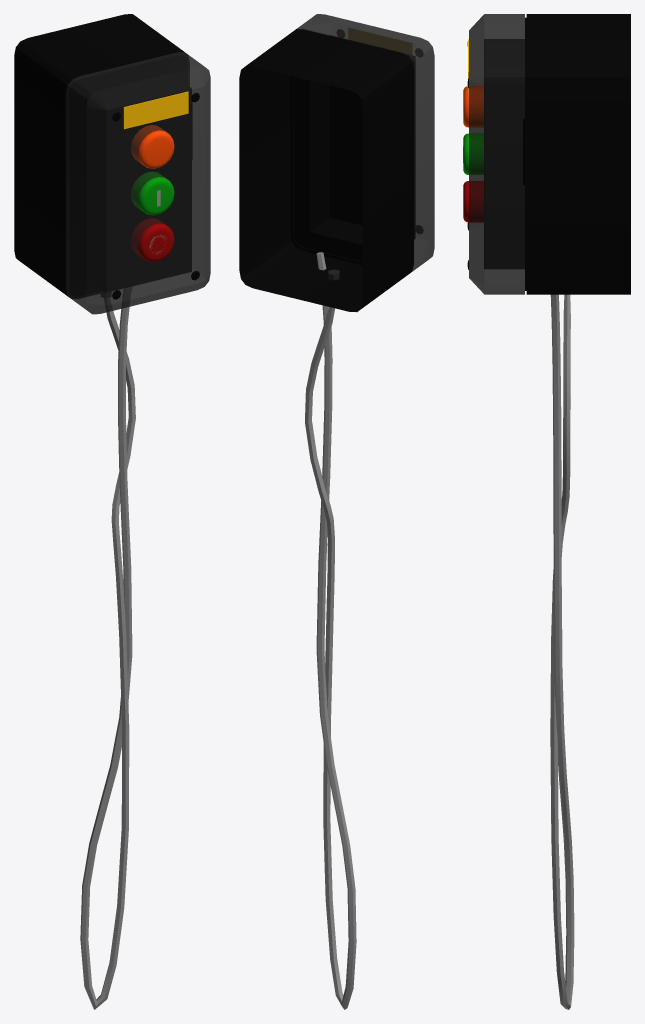
Rendered from AnimalScanner.FBX.
3 views of the same model, side by side, from view 1: azimuth 30°, elevation 25°; view 2: azimuth 150°, elevation 25°; view 3: azimuth 270°, elevation 25° (orthographic). The views are drawn at different scales.
Visible parts, largest first — view 1: AnimalScanner, Door, Cord, Buton01, Buton02, Buton00; view 2: AnimalScanner, Cord, Door; view 3: AnimalScanner, Door, Cord, Buton00, Buton01, Buton02.
Boxes of the visible parts, left/top/right/bottom form: AnimalScanner: left=14, top=14, right=191, bottom=298; Door: left=66, top=52, right=210, bottom=314; Cord: left=80, top=307, right=135, bottom=1009; Buton01: left=131, top=218, right=174, bottom=261; Buton02: left=131, top=125, right=174, bottom=168; Buton00: left=131, top=172, right=174, bottom=215; AnimalScanner: left=239, top=29, right=415, bottom=312; Cord: left=305, top=252, right=356, bottom=1009; Door: left=297, top=14, right=434, bottom=273; AnimalScanner: left=484, top=14, right=630, bottom=294; Door: left=467, top=14, right=526, bottom=294; Cord: left=550, top=294, right=574, bottom=1009; Buton00: left=463, top=133, right=483, bottom=174; Buton01: left=463, top=181, right=483, bottom=222; Buton02: left=463, top=86, right=483, bottom=127.
Bounding box in the file's own units: 0.071 × 0.0802 × 0.5142.
